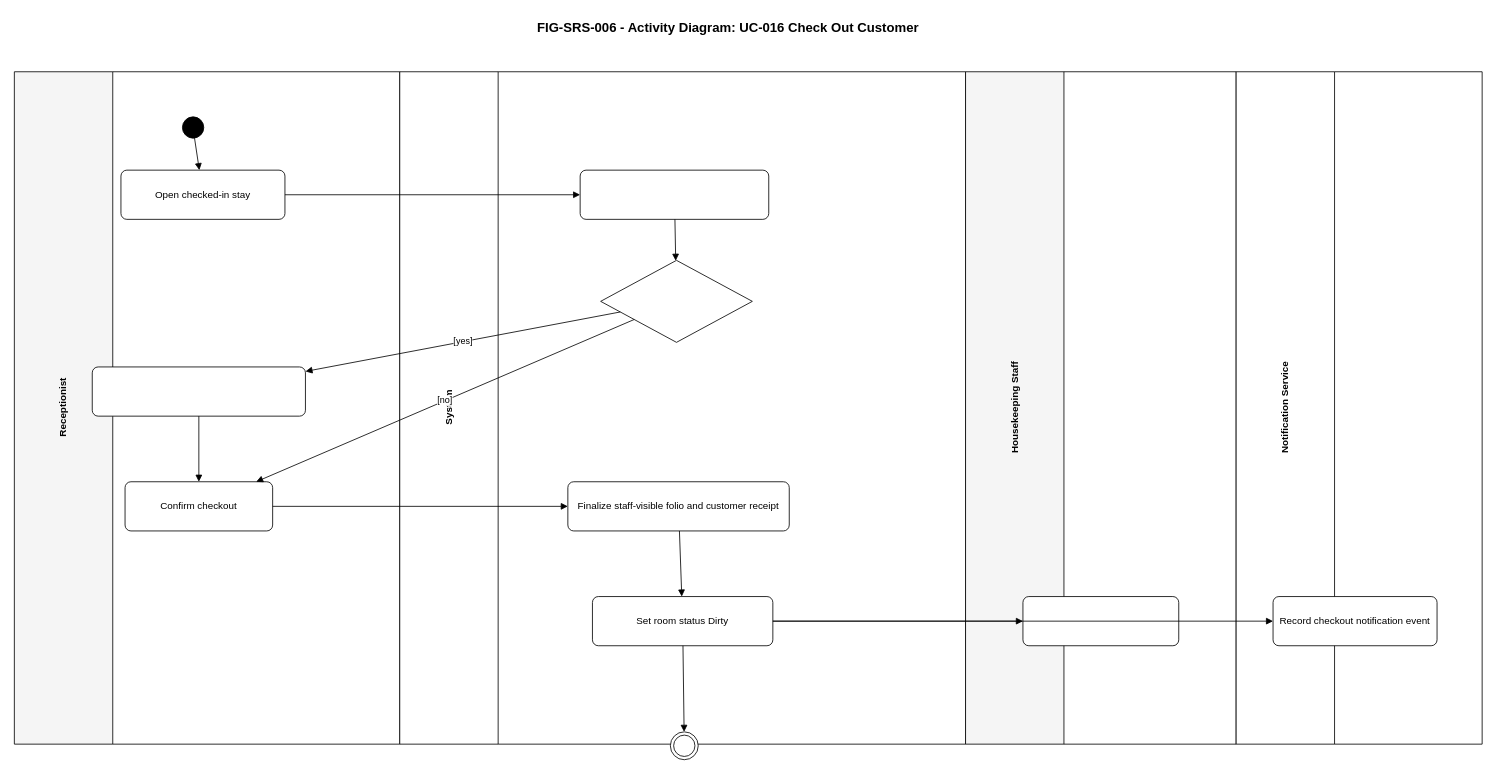
Some shapes in this 1497 by 774 pixel diagram are drawn without their labels. The shapes that lost their labels are listed below. From the top down, each one's centre as x and y in pixels, then its label:
point (674, 194): Display receipt / folio summary
point (676, 301): Pay-at-Property collection needed?
point (198, 391): Record pay-at-property collection (UC-030)
point (1100, 621): Receive housekeeping task
